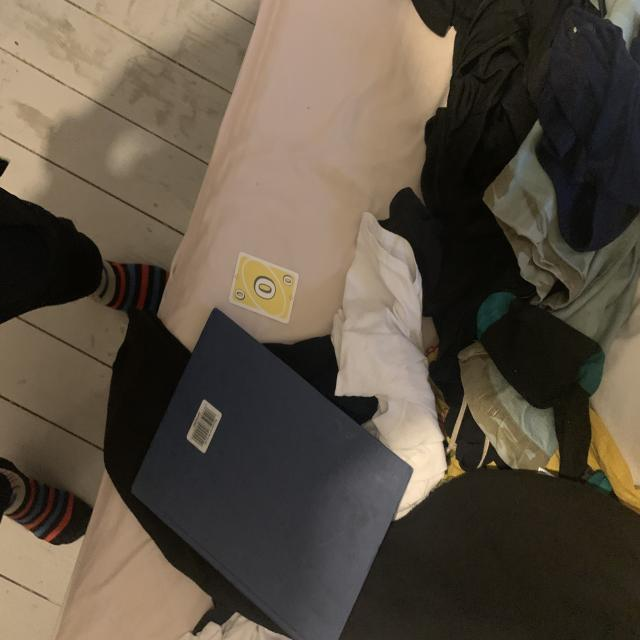lyellow-0: (232, 286, 247, 304)
